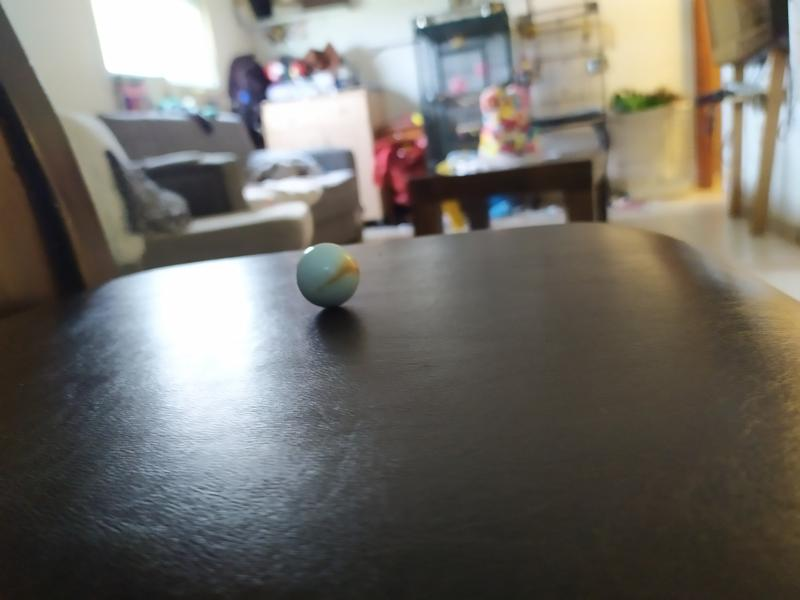Warning: (294, 240, 363, 309)
